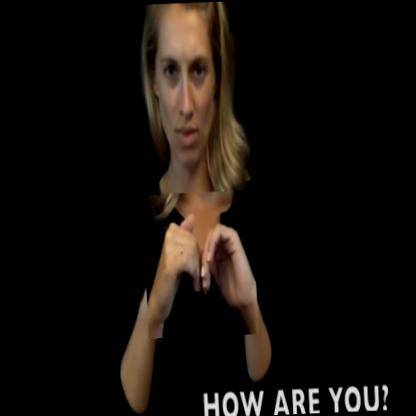HowAreYou: (142, 188, 260, 339)
